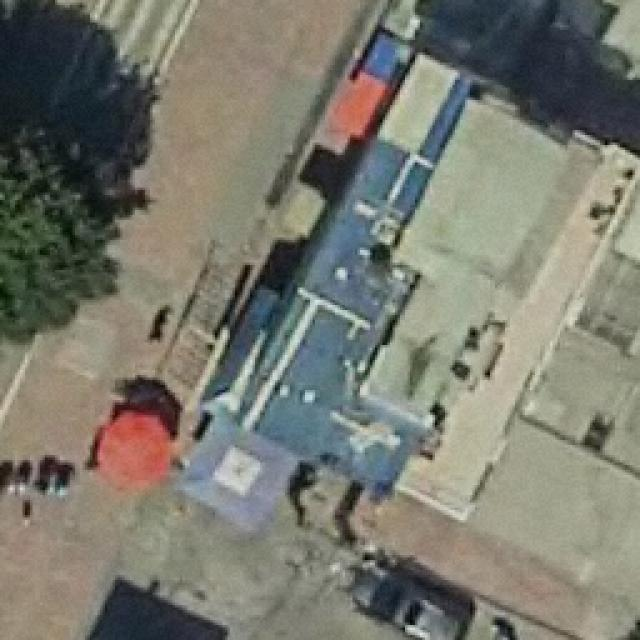vendedor_ambulante: (91, 404, 182, 498)
